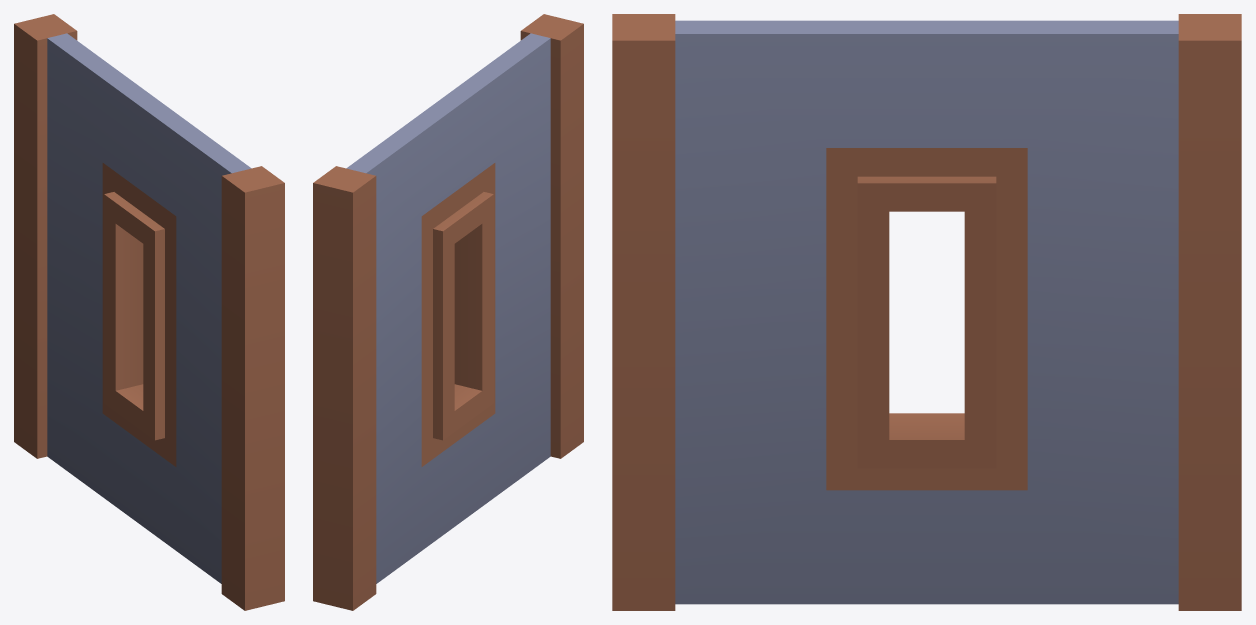
Rendered from wall-window-small.glb.
3 renders of one model, left to right at view 1: azimuth 30°, elevation 25°; view 2: azimuth 150°, elevation 25°; view 3: azimuth 270°, elevation 25°, orthographic. The views are drawn at different scales.
Visible parts, largest first — view 1: wall-window-small; view 2: wall-window-small; view 3: wall-window-small.
Boxes of the visible parts, x1,y1,x2,y2 form: wall-window-small: (14, 14, 284, 610); wall-window-small: (313, 14, 583, 610); wall-window-small: (612, 14, 1241, 610).
Bounding box in the file's own units: 0.1 × 1 × 1.
